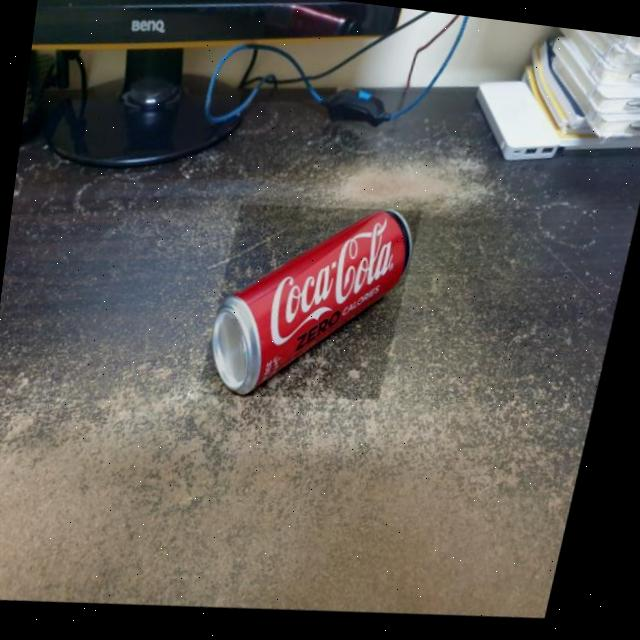trash: (216, 202, 414, 426)
